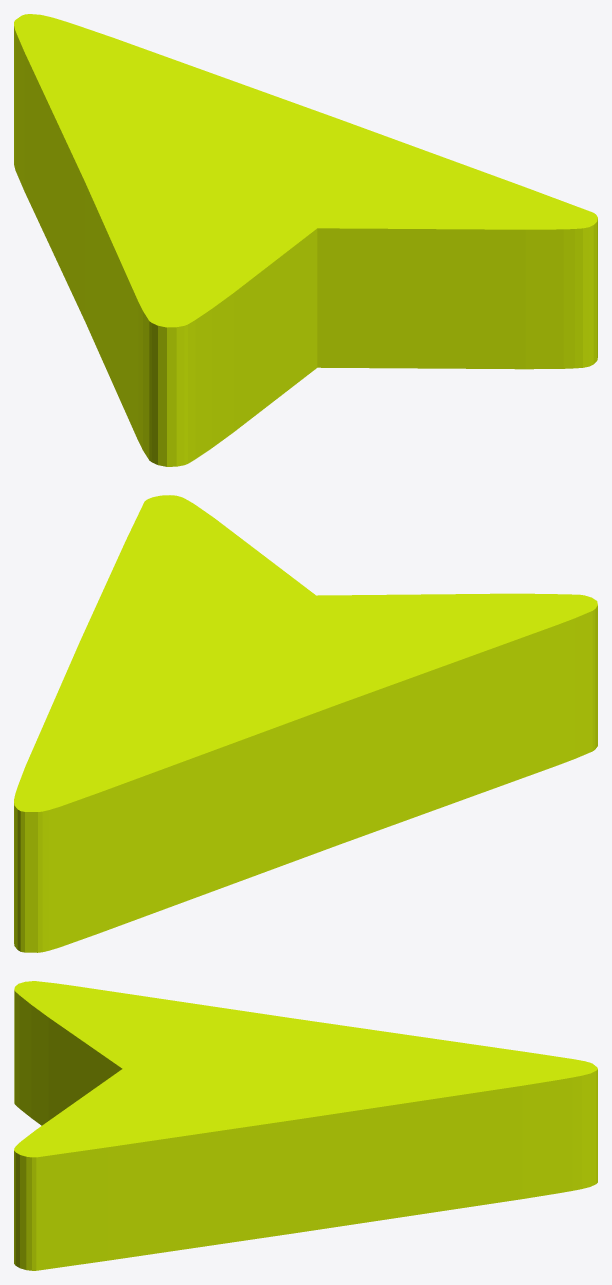
Rendered from arrow.fbx.
The picture shows the model from 3 angles, top to bottom: view 1: azimuth 30°, elevation 25°; view 2: azimuth 150°, elevation 25°; view 3: azimuth 270°, elevation 25°; orthographic projection. The views are drawn at different scales.
Visible parts, largest first — view 1: icon_positionArrow; view 2: icon_positionArrow; view 3: icon_positionArrow.
Boxes of the visible parts, x1=… form: icon_positionArrow: x1=14, y1=14, x2=597, y2=466; icon_positionArrow: x1=14, y1=495, x2=597, y2=952; icon_positionArrow: x1=14, y1=981, x2=597, y2=1270.
Bounding box in the file's own units: 10 × 3 × 14.
